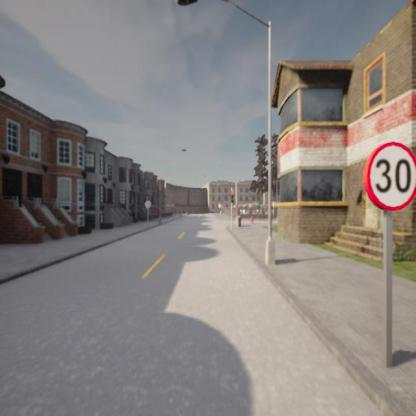traffic_light_red: (230, 191, 233, 202)
traffic_sign_30: (363, 143, 415, 212)
